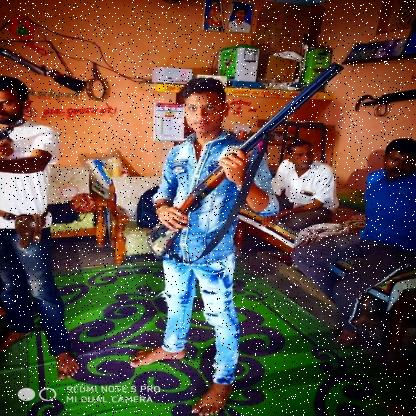rifle: (144, 60, 346, 261), (0, 44, 90, 94), (0, 118, 28, 146)
